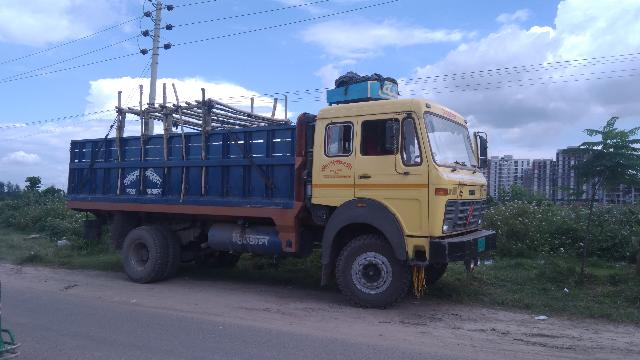truck: (62, 81, 497, 309)
